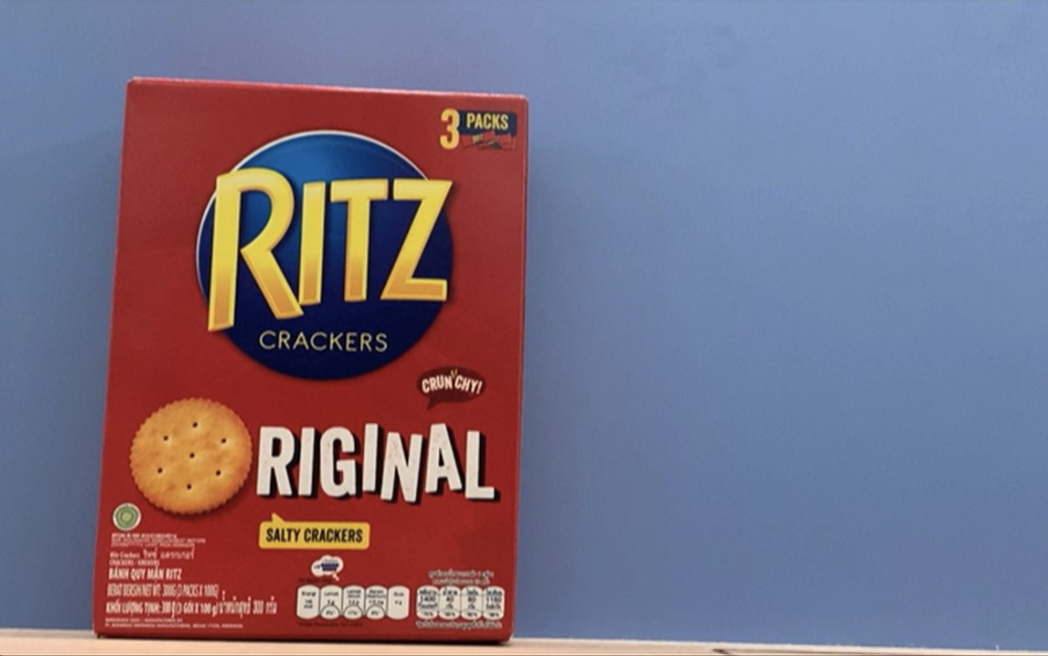crackers_150g: (110, 95, 510, 624)
